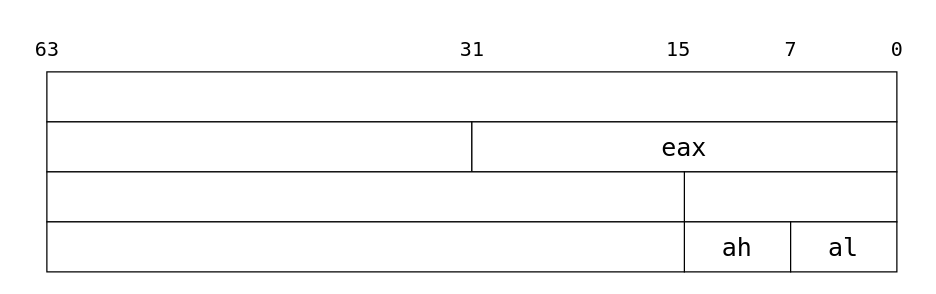
Image size: 936x294. Some labels were removed from this diagram. Here are the shapes that lost their labels. From the top down, the centre of each, then its label:
At point 471,96: "rax(r0)".
At point 790,196: "ax".
